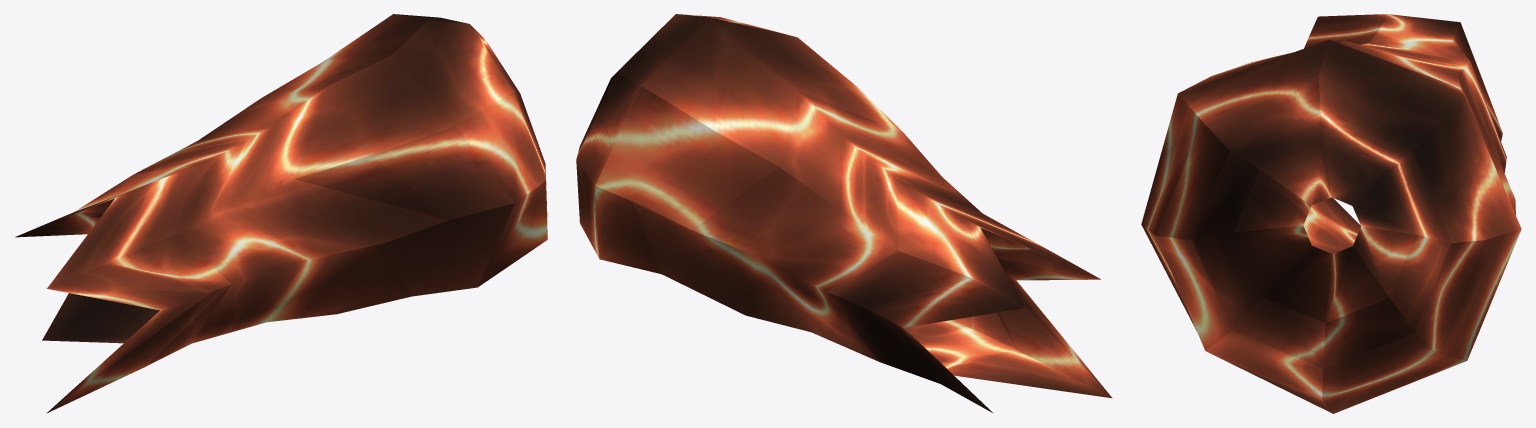
File: PM_Monster_Buzzwole_Mega2_2.fbx
The picture shows the model from 3 angles, left to right: view 1: azimuth 30°, elevation 25°; view 2: azimuth 150°, elevation 25°; view 3: azimuth 270°, elevation 25°; orthographic projection. The views are drawn at different scales.
Visible parts, largest first — view 1: zhao_zi_1; view 2: zhao_zi_1; view 3: zhao_zi_1.
Part boxes in pixels (box(x1,y1,x2,y2)): zhao_zi_1: box(15, 14, 547, 413); zhao_zi_1: box(576, 14, 1112, 413); zhao_zi_1: box(1141, 14, 1521, 413).
Bounding box in the file's own units: 1.12 × 0.641 × 0.5797.
